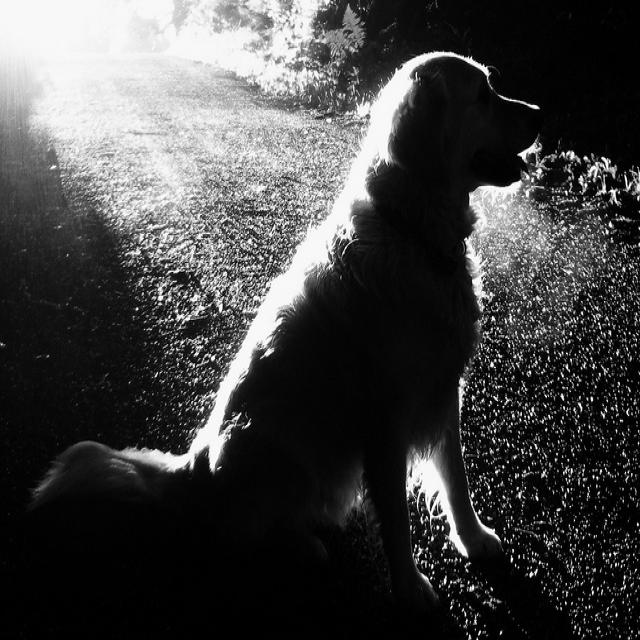Dog: (60, 23, 590, 615)
